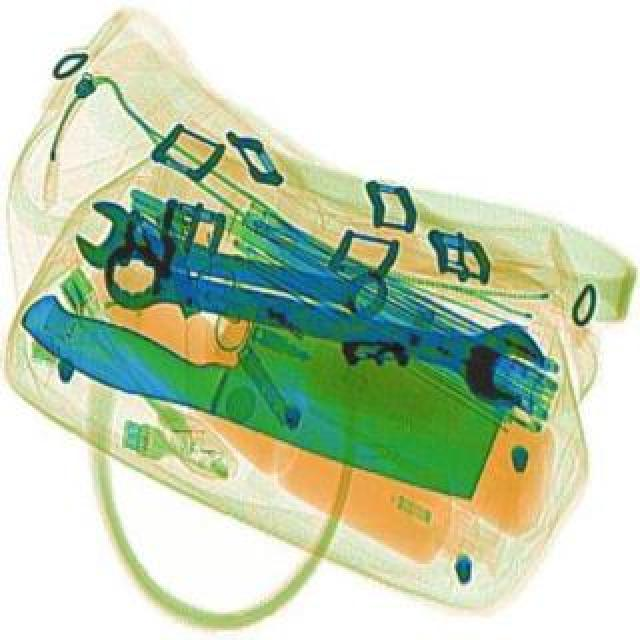knife: (6, 244, 514, 510)
scissors: (90, 234, 558, 418), (64, 200, 392, 338)
